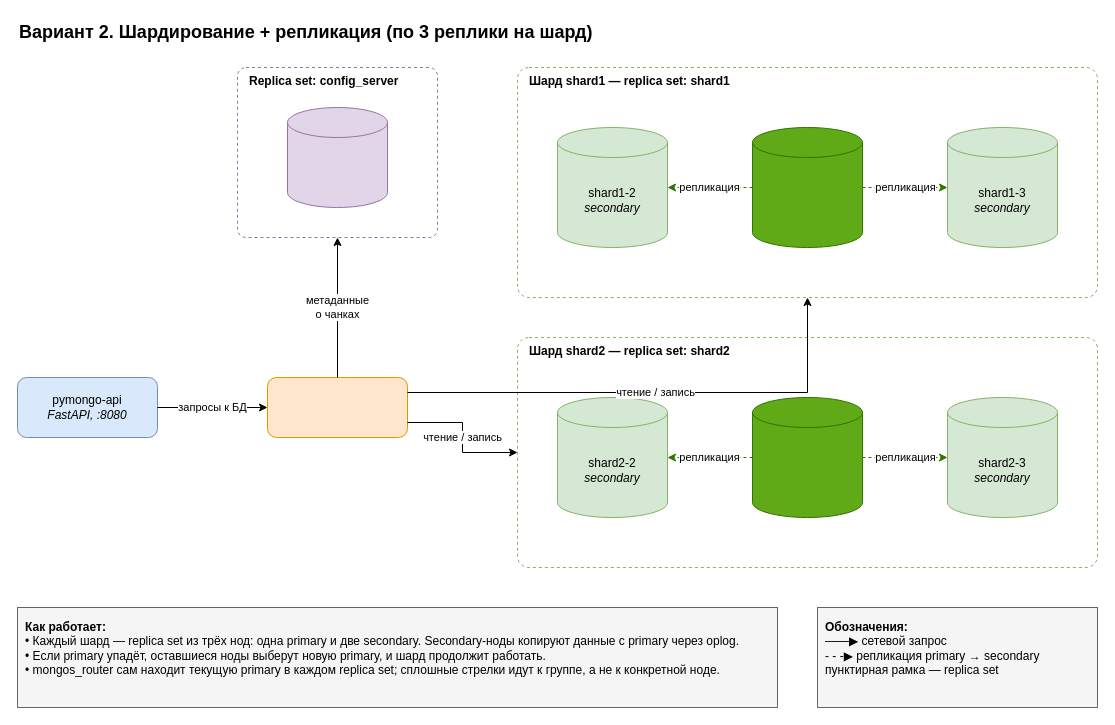
The diagram is 1115 pixels wide and 725 high, and some of its shapes have lost their labels. The centre of each missing label's shape, as x and y in pixels:
configSrv config server: (x=337, y=157)
mongos_router mongos: (x=337, y=407)
shard1-1 primary: (x=807, y=187)
shard2-1 primary: (x=807, y=457)
